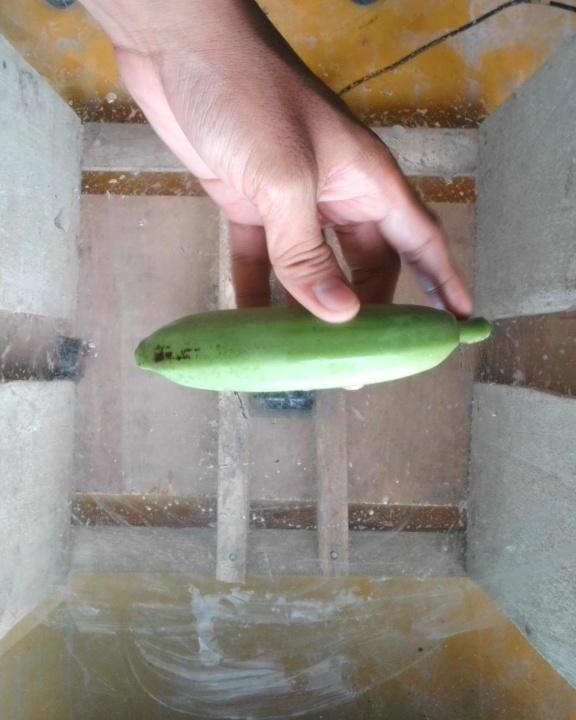CLASS B: (127, 306, 503, 397)
Class A: (140, 335, 212, 374)
